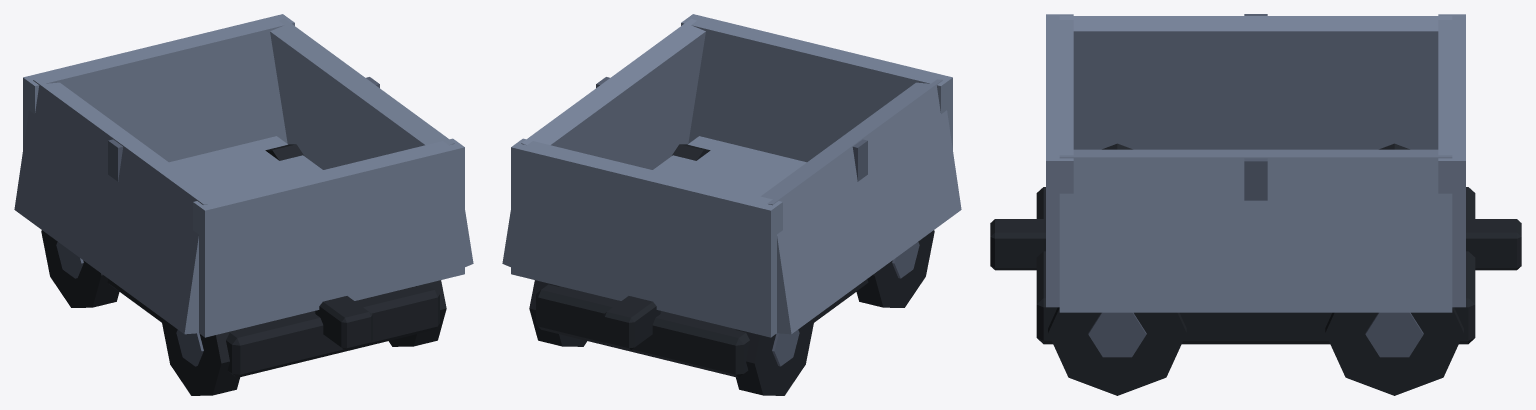
Rendered from SM_Vehicle_OreWagon.fbx.
3 views of the same model, side by side, from view 1: azimuth 30°, elevation 25°; view 2: azimuth 150°, elevation 25°; view 3: azimuth 270°, elevation 25° (orthographic). The views are drawn at different scales.
Visible parts, largest first — view 1: SM_Vehicle_OreWagon; view 2: SM_Vehicle_OreWagon; view 3: SM_Vehicle_OreWagon.
Part boxes in pixels (x1=…): SM_Vehicle_OreWagon: x1=14, y1=14, x2=473, y2=395; SM_Vehicle_OreWagon: x1=502, y1=14, x2=961, y2=395; SM_Vehicle_OreWagon: x1=990, y1=14, x2=1521, y2=395.
Bounding box in the file's own units: 1.67 × 1.18 × 2.3.
